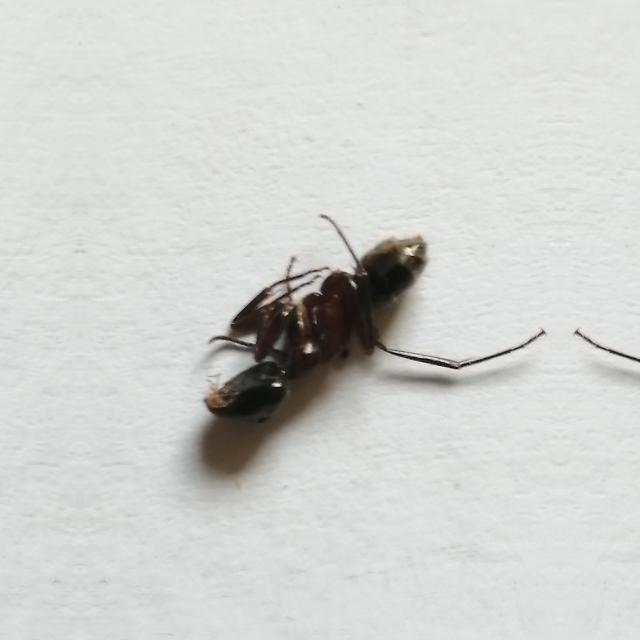Camponotus: (172, 174, 466, 508)
